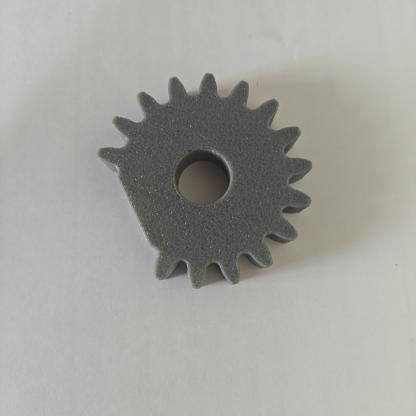defect: (88, 140, 205, 293)
gear: (78, 62, 326, 302)
